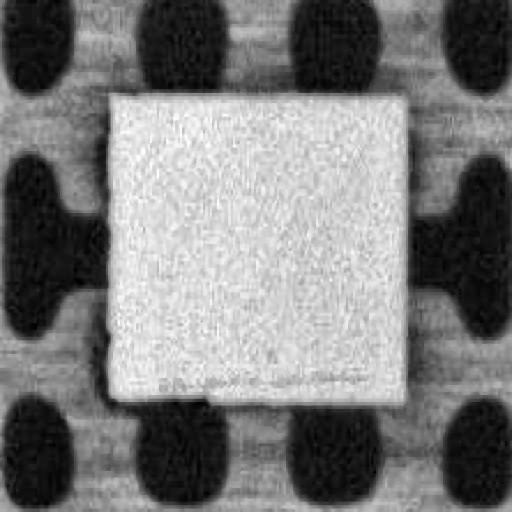DIE_CRACK: (233, 253, 512, 256)
